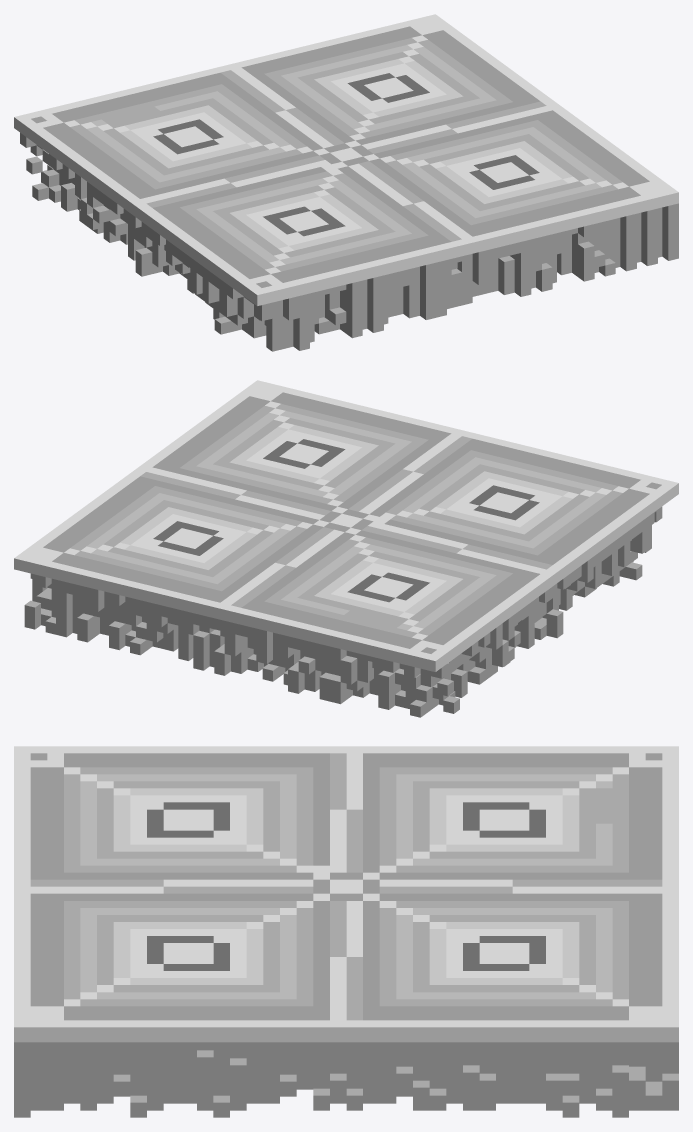
File: newfield.obj
The picture shows the model from 3 angles, top to bottom: view 1: azimuth 30°, elevation 25°; view 2: azimuth 150°, elevation 25°; view 3: azimuth 270°, elevation 25°; orthographic projection. The views are drawn at different scales.
Size of the model in its own units: 4 by 0.6 by 4.
Materials: 1 (1 with a texture image).
